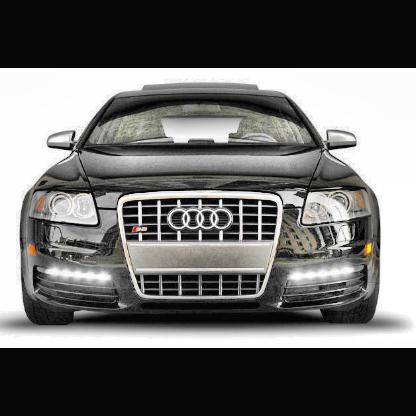Audi S6 Sedan 2011: (20, 84, 392, 325)
